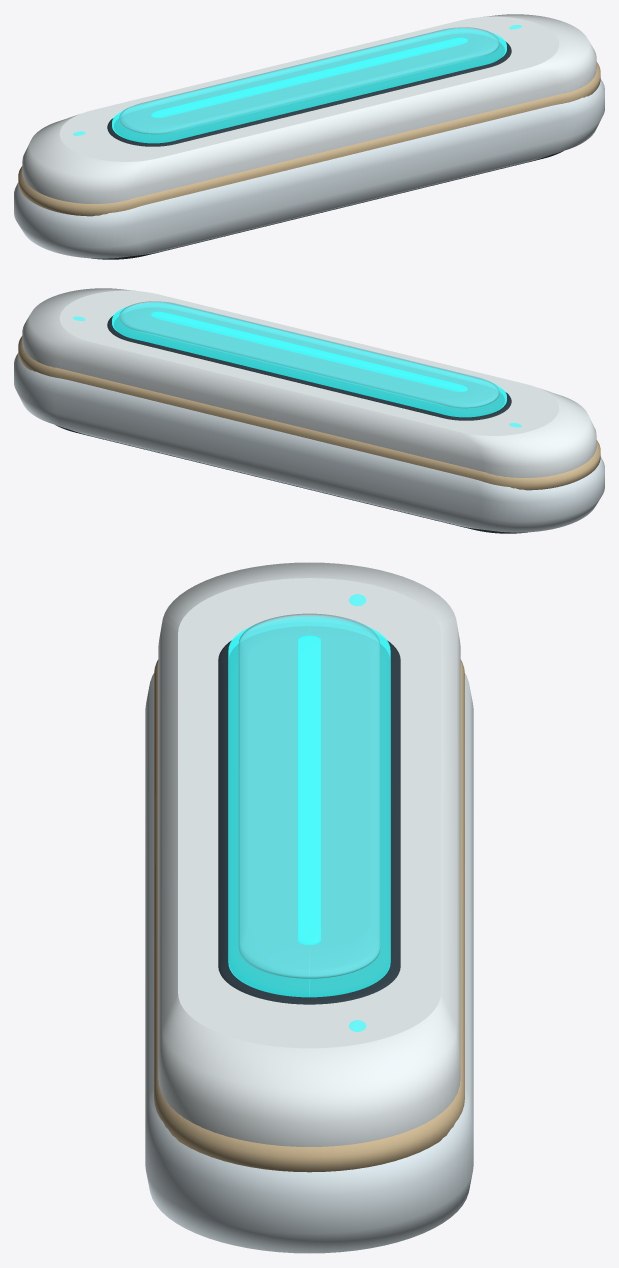
File: paddle-hero-v2.glb
3 views of the same model, one above another, from view 1: azimuth 30°, elevation 25°; view 2: azimuth 150°, elevation 25°; view 3: azimuth 270°, elevation 25° (orthographic). The views are drawn at different scales.
Visible parts, largest first — view 1: PADDLE / pill shaped ceramic shell, PADDLE / continuous rolled platinum bumper, PADDLE / translucent cyan capsule lens, PADDLE / rounded protective crystal glazing, PADDLE / layered champagne shoulder seam, PADDLE / dark inset gasket, PADDLE / central bright plasma filament, PADDLE / graphite capsule undercarriage; view 2: PADDLE / pill shaped ceramic shell, PADDLE / continuous rolled platinum bumper, PADDLE / translucent cyan capsule lens, PADDLE / rounded protective crystal glazing, PADDLE / layered champagne shoulder seam, PADDLE / dark inset gasket, PADDLE / central bright plasma filament, PADDLE / graphite capsule undercarriage; view 3: PADDLE / pill shaped ceramic shell, PADDLE / translucent cyan capsule lens, PADDLE / rounded protective crystal glazing, PADDLE / continuous rolled platinum bumper, PADDLE / dark inset gasket, PADDLE / layered champagne shoulder seam, PADDLE / central bright plasma filament.
Part boxes in pixels (left/top/right/bottom): PADDLE / pill shaped ceramic shell: left=22, top=14, right=596, bottom=203; PADDLE / continuous rolled platinum bumper: left=14, top=79, right=604, bottom=258; PADDLE / translucent cyan capsule lens: left=112, top=28, right=506, bottom=143; PADDLE / rounded protective crystal glazing: left=119, top=27, right=499, bottom=134; PADDLE / layered champagne shoulder seam: left=18, top=62, right=600, bottom=216; PADDLE / dark inset gasket: left=107, top=41, right=511, bottom=146; PADDLE / central bright plasma filament: left=151, top=37, right=467, bottom=117; PADDLE / graphite capsule undercarriage: left=91, top=151, right=563, bottom=259; PADDLE / pill shaped ceramic shell: left=22, top=288, right=596, bottom=477; PADDLE / continuous rolled platinum bumper: left=14, top=353, right=604, bottom=532; PADDLE / translucent cyan capsule lens: left=112, top=302, right=506, bottom=417; PADDLE / rounded protective crystal glazing: left=119, top=301, right=499, bottom=408; PADDLE / layered champagne shoulder seam: left=18, top=336, right=600, bottom=490; PADDLE / dark inset gasket: left=107, top=315, right=511, bottom=420; PADDLE / central bright plasma filament: left=151, top=311, right=467, bottom=391; PADDLE / graphite capsule undercarriage: left=55, top=425, right=527, bottom=533; PADDLE / pill shaped ceramic shell: left=158, top=562, right=460, bottom=1146; PADDLE / translucent cyan capsule lens: left=228, top=616, right=390, bottom=997; PADDLE / rounded protective crystal glazing: left=238, top=613, right=380, bottom=978; PADDLE / continuous rolled platinum bumper: left=145, top=673, right=473, bottom=1253; PADDLE / dark inset gasket: left=218, top=640, right=400, bottom=1004; PADDLE / layered champagne shoulder seam: left=154, top=659, right=464, bottom=1172; PADDLE / central bright plasma filament: left=298, top=635, right=320, bottom=944.
Size of the model in its own units: 3 by 0.55 by 0.75.
